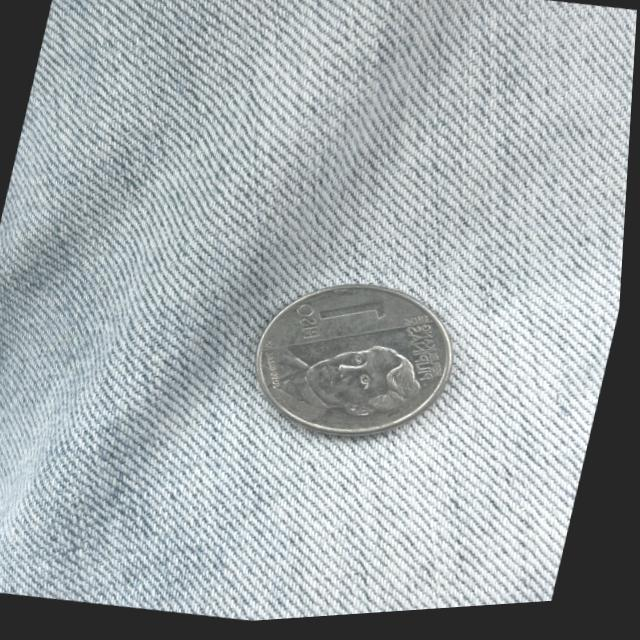1_New_Front: (286, 283, 409, 358)
